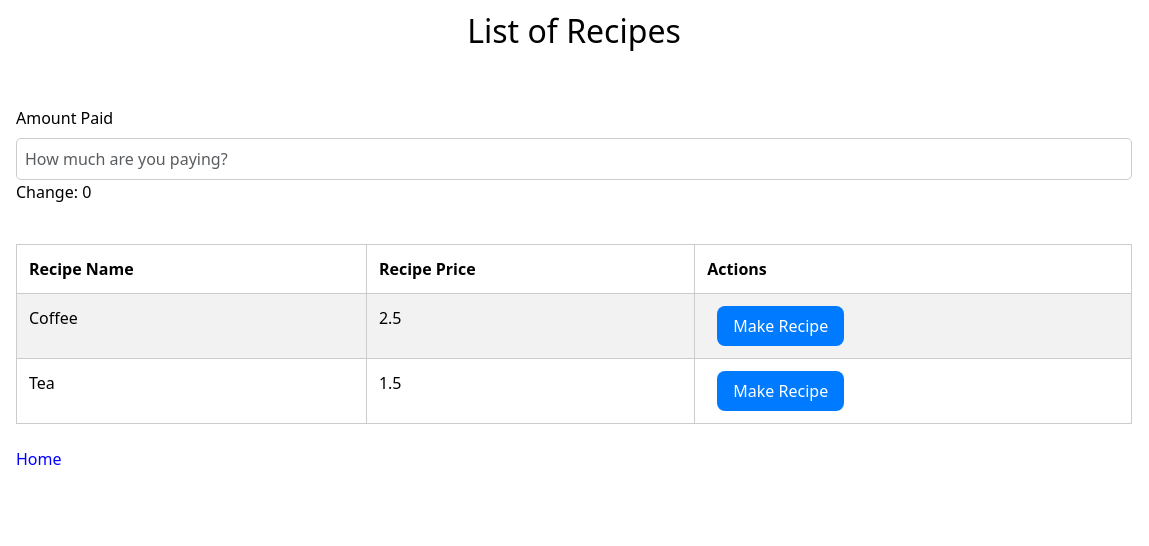
Test: ListRecipesComponent › displays validation error for empty amount paid
Expected: the text "Coffee" is shown, [16,294,366,359]
Click the button "Make Recipe" in the row of "Coffee" at (781, 326), box [717,306,844,346]
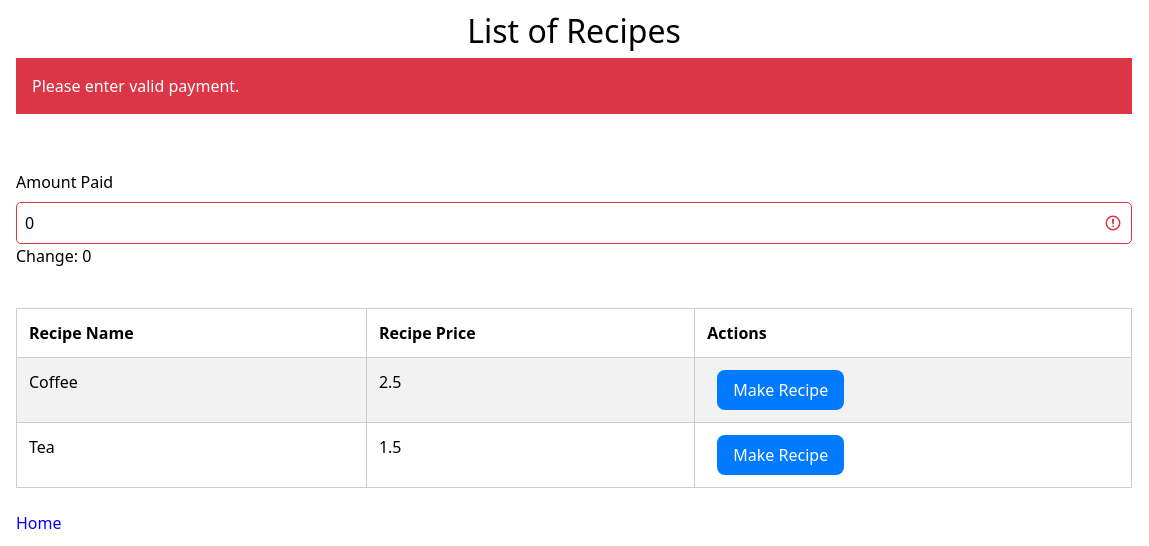
Now the text "Please enter valid payment." is shown, box [16,58,1132,114]
